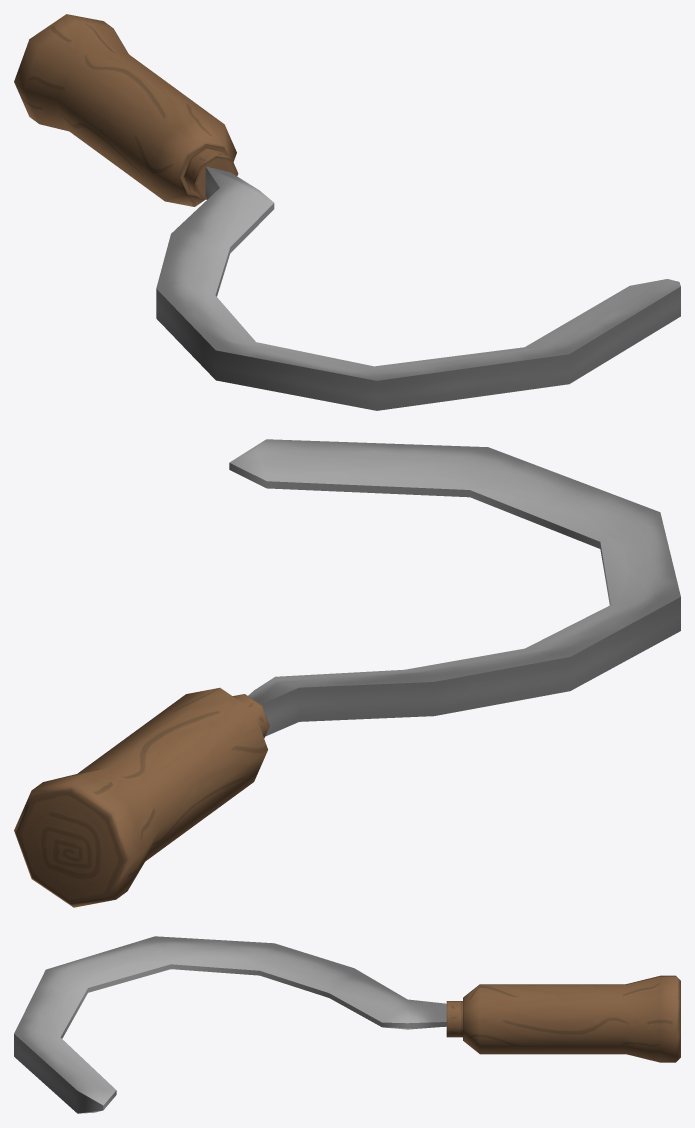
The model's file is HandSickle_MESH_02.fbx.
3 renders of one model, top to bottom at view 1: azimuth 30°, elevation 25°; view 2: azimuth 150°, elevation 25°; view 3: azimuth 270°, elevation 25°, orthographic. The views are drawn at different scales.
Parts seen in each view (by area): view 1: HandSickle_MESH_01; view 2: HandSickle_MESH_01; view 3: HandSickle_MESH_01.
Boxes of the visible parts, box(x1,y1,x2,y2) form: HandSickle_MESH_01: box(14, 14, 680, 410); HandSickle_MESH_01: box(14, 439, 680, 907); HandSickle_MESH_01: box(14, 936, 680, 1113).
Size of the model in its own units: 79.73 by 19.47 by 140.
